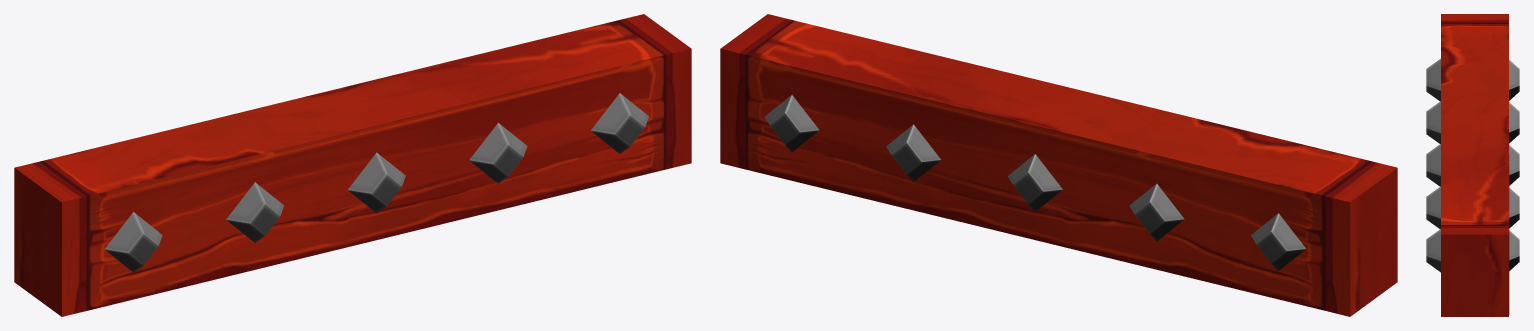
File: fence_rad_03.fbx
3 views of the same model, side by side, from view 1: azimuth 30°, elevation 25°; view 2: azimuth 150°, elevation 25°; view 3: azimuth 270°, elevation 25° (orthographic). The views are drawn at different scales.
Parts seen in each view (by area): view 1: fence_rad_03; view 2: fence_rad_03; view 3: fence_rad_03.
Boxes of the visible parts, x1,y1,x2,y2 form: fence_rad_03: [14, 14, 691, 316]; fence_rad_03: [720, 14, 1397, 316]; fence_rad_03: [1426, 14, 1519, 316].
Size of the model in its own units: 230 by 40 by 41.03.
